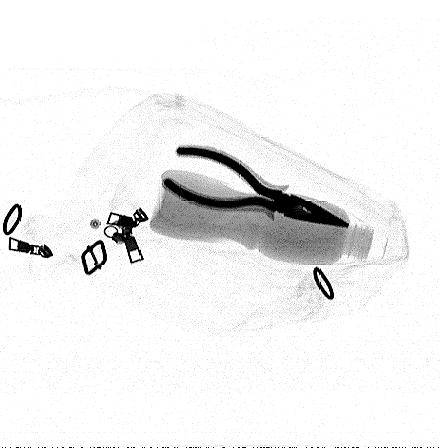Pliers: (165, 145, 350, 227)
